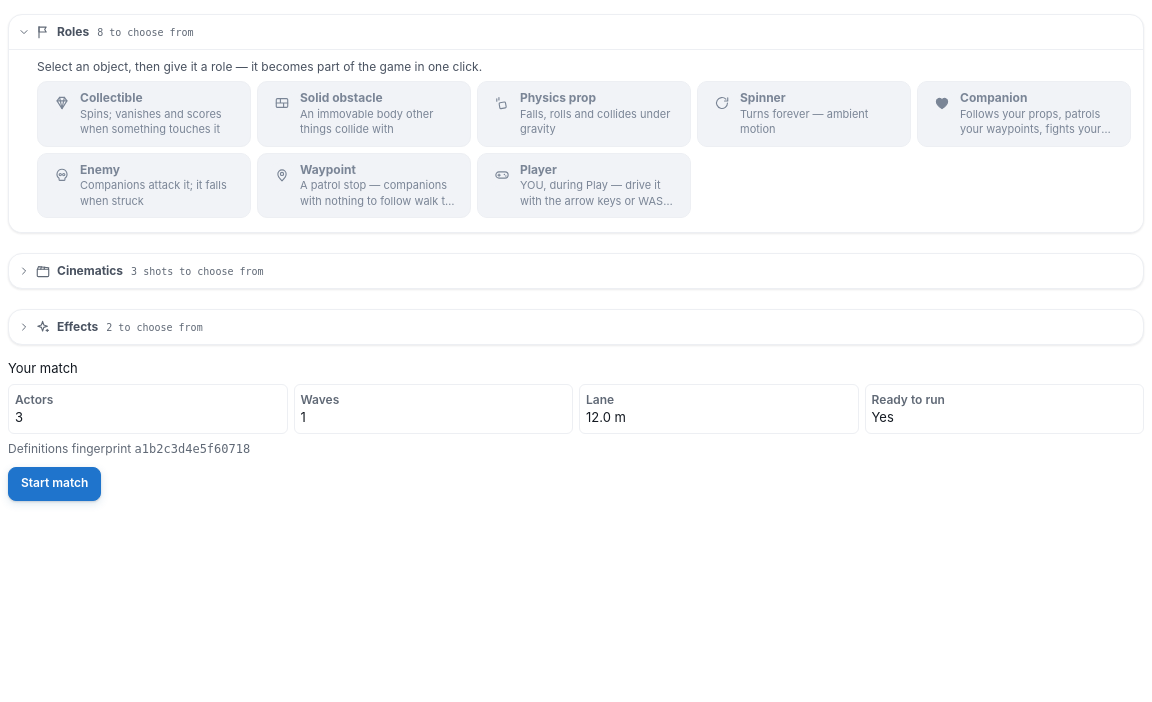
Test: MatchPanel › disables attack-target when nothing hostile is left, rather than failing on press
Click the button "Start match" at (55, 484), box [8,467,101,501]
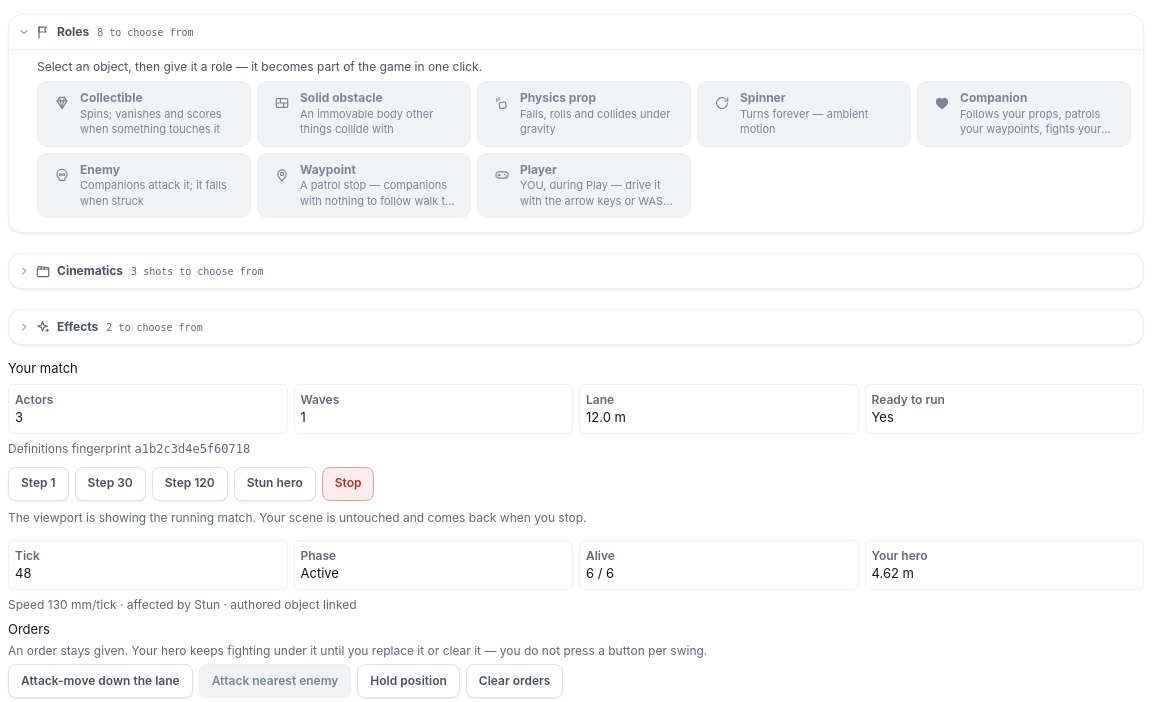
Now the button with test id "order-attack-target" is disabled, box [199,664,351,698]
